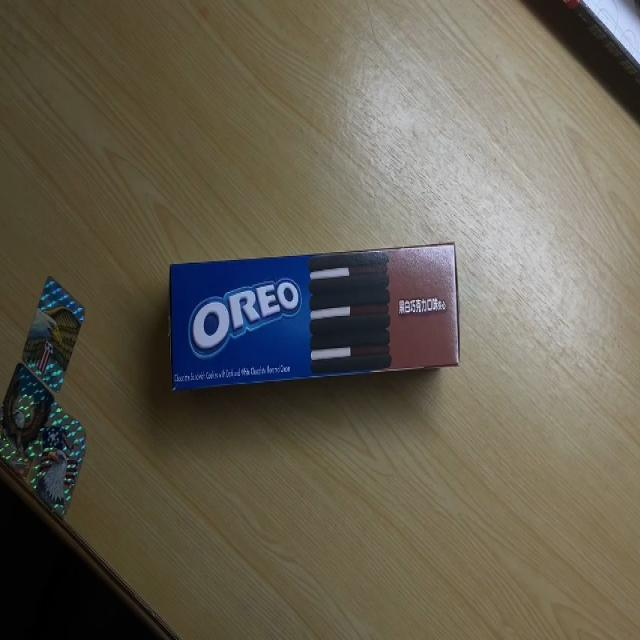Oreo: (167, 245, 461, 394)
